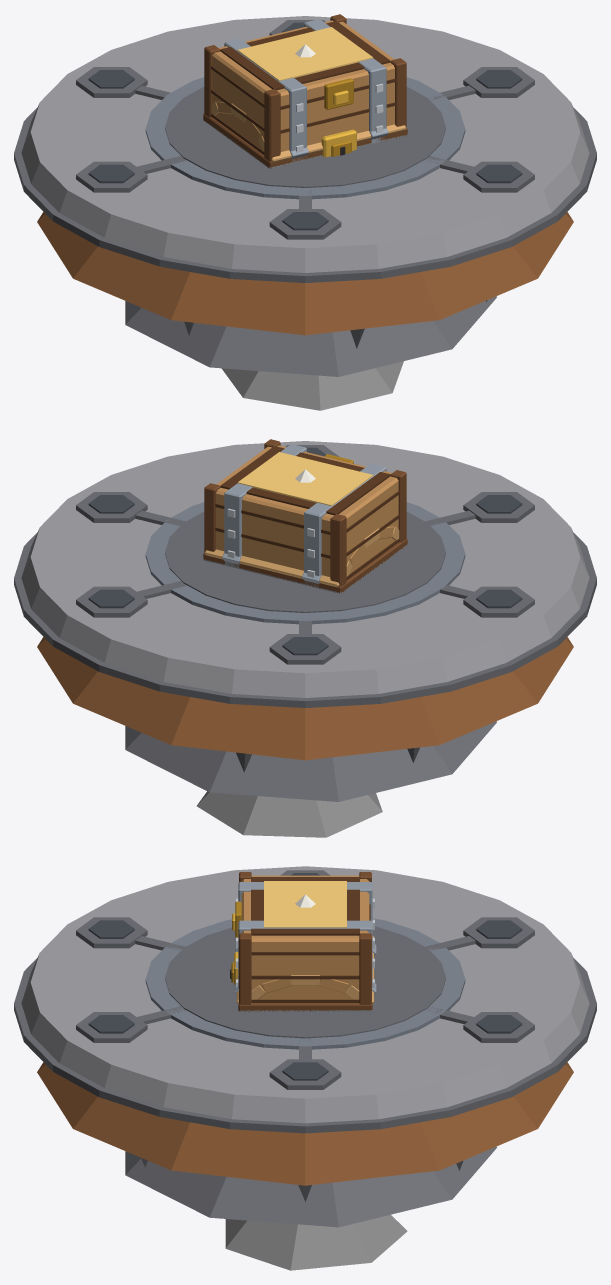
The model's file is CrateOpen.fbx.
3 renders of one model, top to bottom at view 1: azimuth 30°, elevation 25°; view 2: azimuth 150°, elevation 25°; view 3: azimuth 270°, elevation 25°, orthographic.
Parts seen in each view (by area): view 1: Crate_Dais, Crate_Body, Crate_Lid; view 2: Crate_Dais, Crate_Body, Crate_Lid; view 3: Crate_Dais, Crate_Body, Crate_Lid.
Part boxes in pixels (left/top/right/bottom): Crate_Dais: left=14, top=16, right=596, bottom=410; Crate_Body: left=204, top=14, right=407, bottom=168; Crate_Lid: left=203, top=101, right=407, bottom=168; Crate_Dais: left=14, top=441, right=596, bottom=837; Crate_Body: left=203, top=439, right=407, bottom=593; Crate_Lid: left=203, top=526, right=407, bottom=593; Crate_Dais: left=14, top=866, right=596, bottom=1270; Crate_Body: left=232, top=872, right=374, bottom=1011; Crate_Lid: left=230, top=936, right=376, bottom=1011.
Bounding box in the file's own units: 9.12 × 5.72 × 9.12.
Materials: 1 (1 with a texture image).
